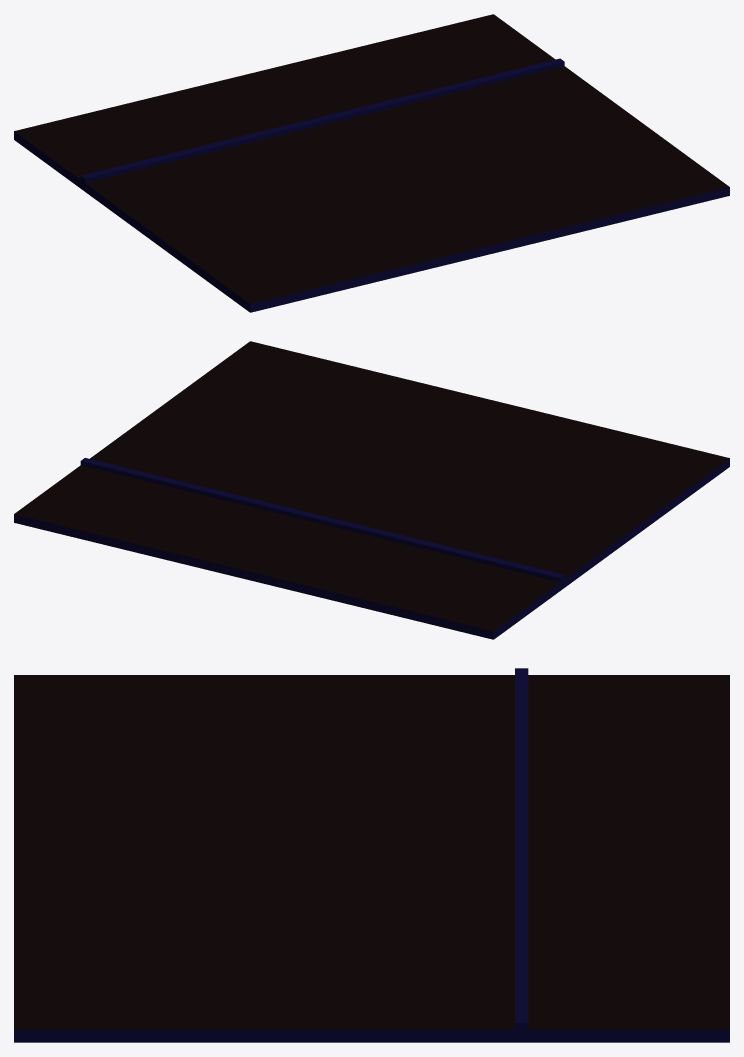
The model's file is Wall B_Hangar.fbx.
The picture shows the model from 3 angles, top to bottom: view 1: azimuth 30°, elevation 25°; view 2: azimuth 150°, elevation 25°; view 3: azimuth 270°, elevation 25°; orthographic projection. The views are drawn at different scales.
Visible parts, largest first — view 1: Cube.001; view 2: Cube.001; view 3: Cube.001.
Part boxes in pixels (left/top/right/bottom): Cube.001: left=14, top=14, right=729, bottom=312; Cube.001: left=14, top=341, right=729, bottom=639; Cube.001: left=14, top=668, right=729, bottom=1042.
Bounding box in the file's own units: 2356 × 61.29 × 2010.
